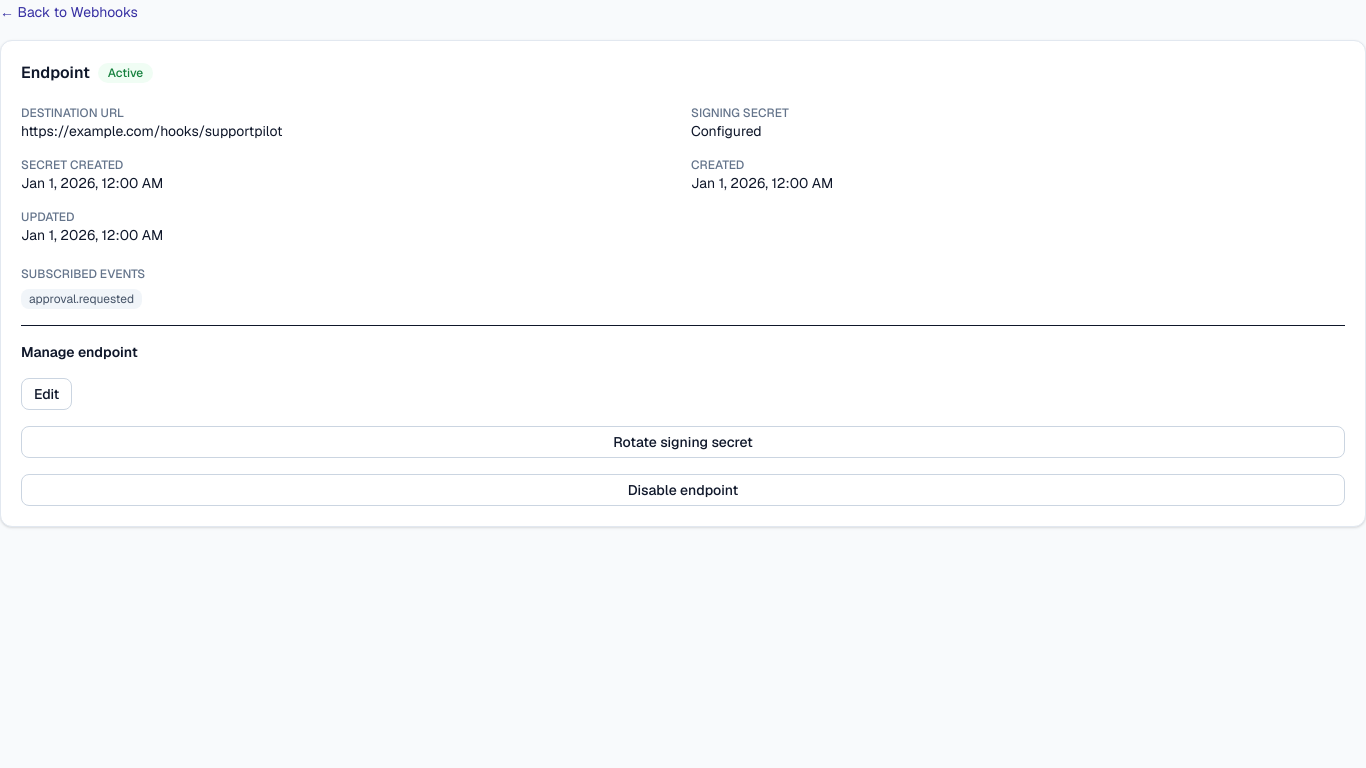
Test: ManageWebhookEndpointControls (Phase 22 Chunk 3) › disables the endpoint only after confirmation, and re-enables it
This screenshot has width=1366, height=768.
Check: the heading "Endpoint" is shown, box [21,61,90,85]
Click the button "Disable endpoint": (683, 490) [21,474,1345,506]
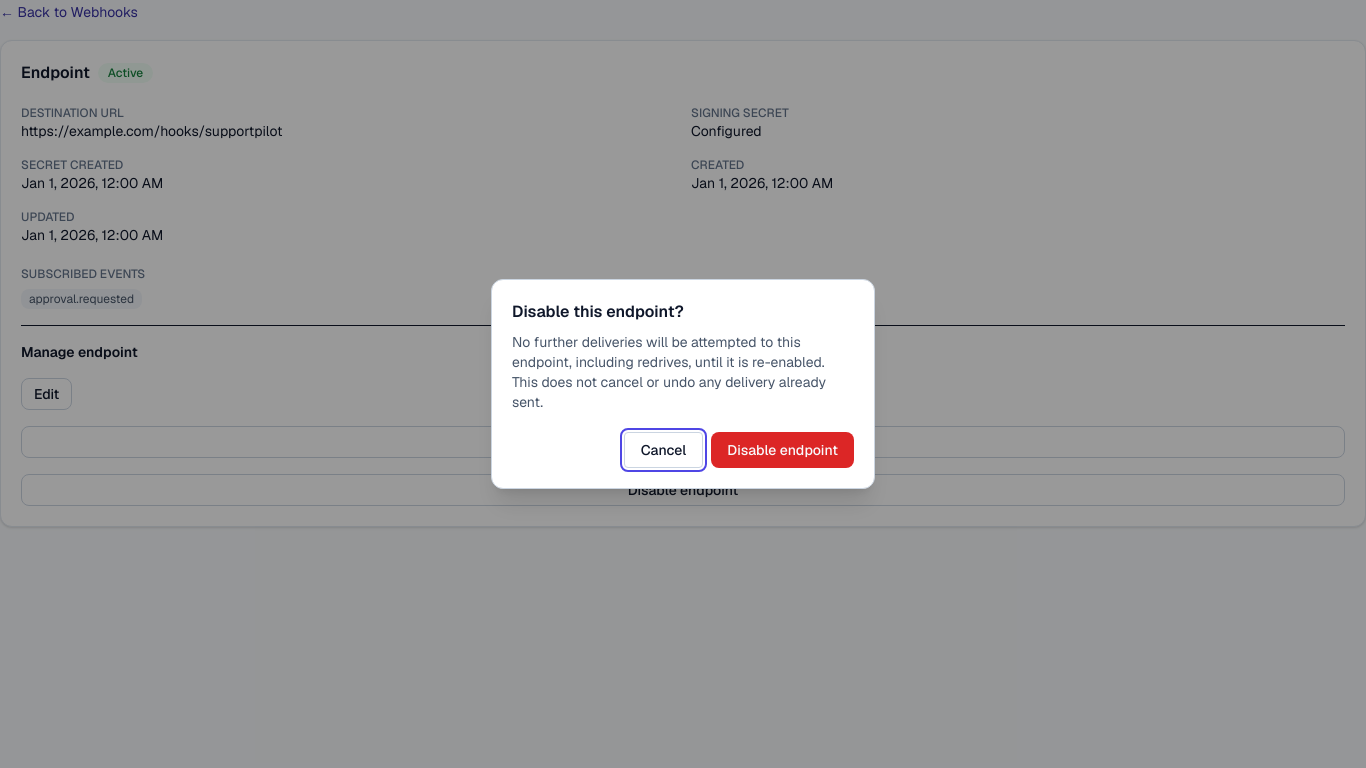
Check: the dialog shows "redrives", box [512,333,826,411]
Click the button "Disable endpoint": (783, 450) [711,432,854,468]
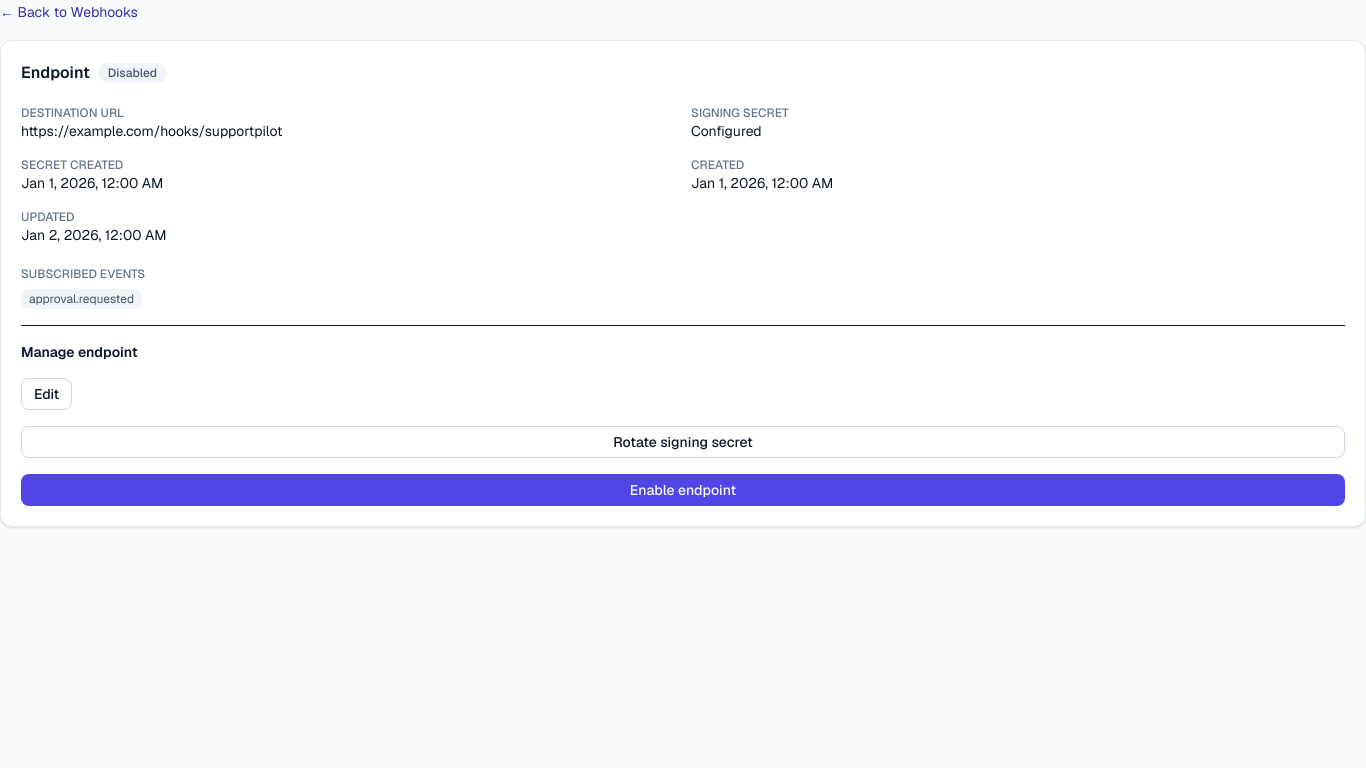
Check: the dialog is gone
Click the button "Enable endpoint": (683, 490) [21,474,1345,506]
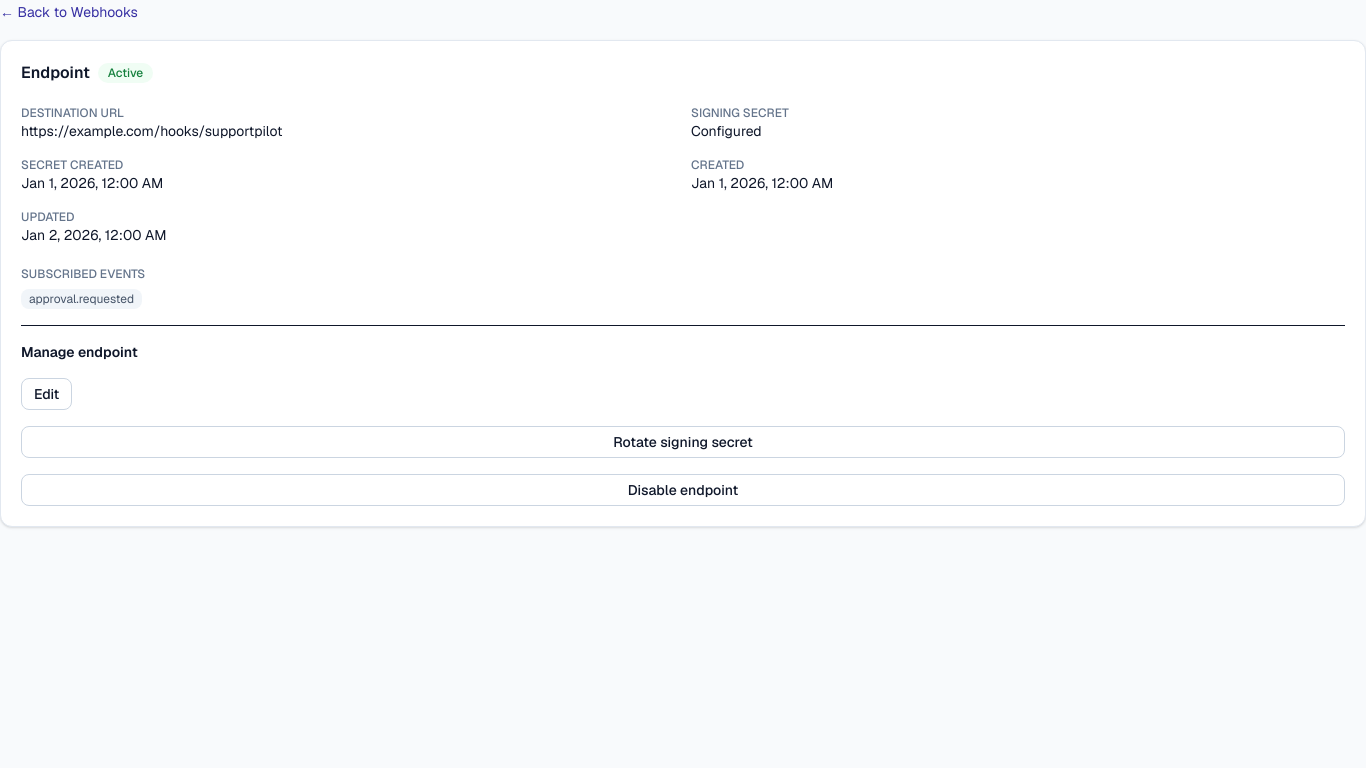
Check: the button "Disable endpoint" is shown, box [21,474,1345,506]
